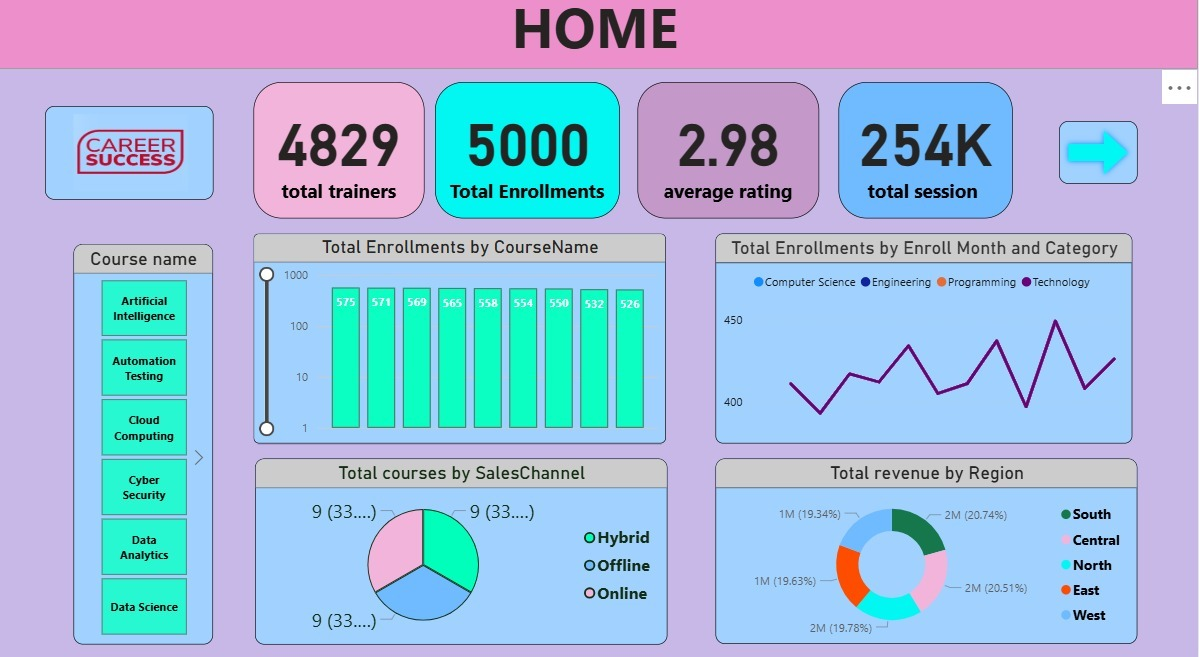

This screenshot's page, from the dashboard's own definition file:
{"tool":"powerbi","page":{"name":"Page 1","canvas":[1280,720],"ordinal":0},"visuals":[{"type":"card","fields":{"Values":["measure table.average rating"]},"box":[686.3,104.9,192.9,144.6],"z":0},{"type":"card","fields":{"Values":["measure table.Total Enrollments"]},"box":[470.8,104.9,195.7,144.6],"z":1000},{"type":"card","fields":{"Values":["measure table.total session conducted"]},"box":[899,104.9,184.3,144.6],"z":2000},{"type":"card","fields":{"Values":["measure table.total trainers"]},"box":[278.4,105,181.3,144.7],"z":3000},{"type":"columnChart","fields":{"Category":["course data.CourseName"],"Y":["measure table.Total Enrollments"]},"box":[278.4,265.6,437.4,222.7],"z":4000},{"type":"lineChart","fields":{"Category":["Endrollment data.Enroll Month"],"Y":["measure table.Total Enrollments"],"Series":["course data.Category"]},"box":[768.3,265.6,442.2,222.7],"z":5000},{"type":"pieChart","fields":{"Category":["SalesTeam data.SalesChannel"],"Y":["measure table.Total courses"]},"box":[279.9,504.2,437.4,197.2],"z":6000},{"type":"donutChart","fields":{"Category":["SalesTeam data.Region"],"Y":["measure table.Total revenue"]},"box":[767.6,504.3,447.6,196.5],"z":7000},{"type":"image","box":[56.7,130.5,178.7,99.3],"z":8000},{"type":"shape","box":[1132.2,145.8,83,66.8],"z":9000},{"type":"slicer","title":"Course name","fields":{"Values":["course data.CourseName"]},"box":[87.5,276.8,147.9,424.7],"z":10000},{"type":"textbox","box":[0,0,1280.4,90.7],"z":11000}]}

Visuals, with their boxes in screenshot pixels (x1, y1, x2, y2), scaled from the page's 1280x720 canvas onto the 1199x657 screenshot:
card - measure table.average rating: box=[643, 96, 824, 228]
card - measure table.Total Enrollments: box=[441, 96, 624, 228]
card - measure table.total session conducted: box=[842, 96, 1015, 228]
card - measure table.total trainers: box=[261, 96, 431, 228]
columnChart - course data.CourseName x measure table.Total Enrollments: box=[261, 242, 671, 446]
lineChart - Endrollment data.Enroll Month x measure table.Total Enrollments: box=[720, 242, 1134, 446]
pieChart - SalesTeam data.SalesChannel x measure table.Total courses: box=[262, 460, 672, 640]
donutChart - SalesTeam data.Region x measure table.Total revenue: box=[719, 460, 1138, 639]
image: box=[53, 119, 221, 210]
shape: box=[1061, 133, 1138, 194]
"Course name" slicer: box=[82, 253, 221, 640]
textbox: box=[0, 0, 1198, 83]
